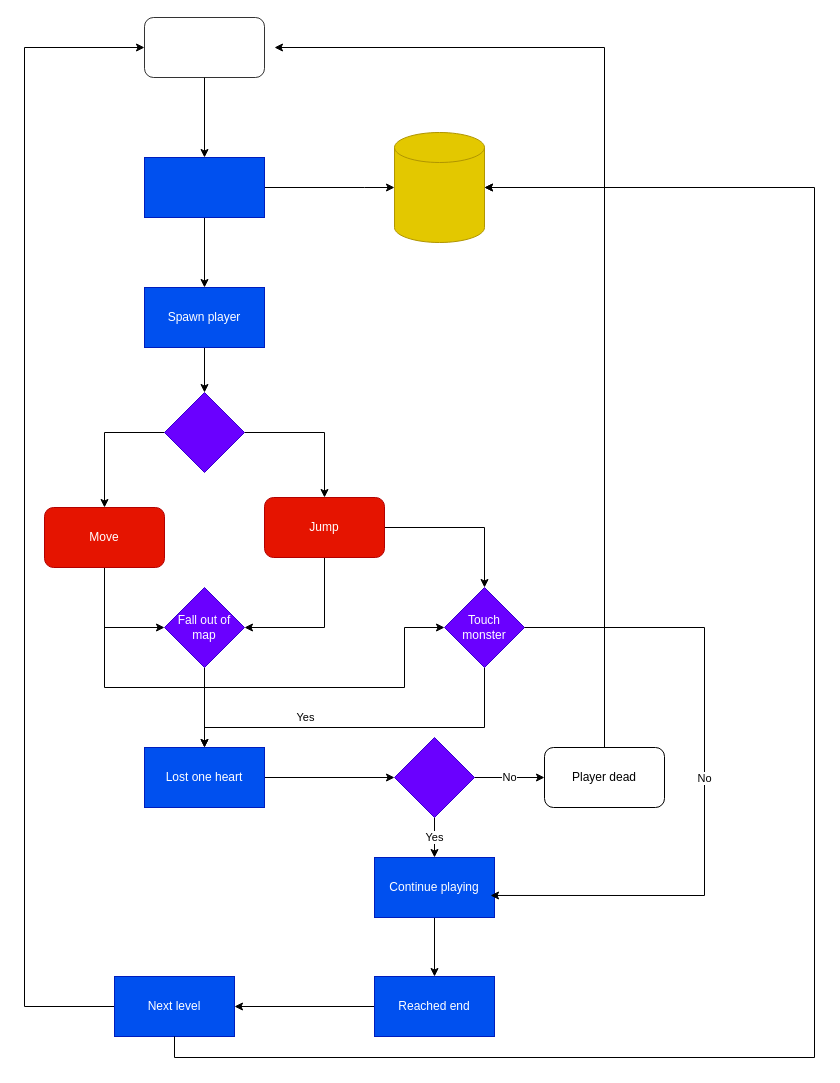
Some shapes in this 840 by 1083 pixel diagram are drawn without their labels. Each missing label, with the centre of its shape:
Enough hearts?: (434,777)
JSON file with players data: (439,187)
Load current level: (204,187)
Movement: (204,432)
Start Game: (204,47)
